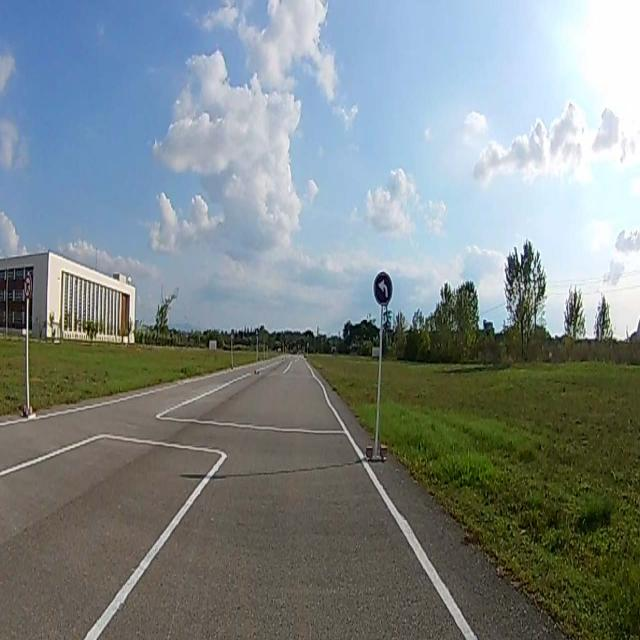sagadonulmez: (22, 274, 32, 298)
sol: (374, 271, 392, 306)
